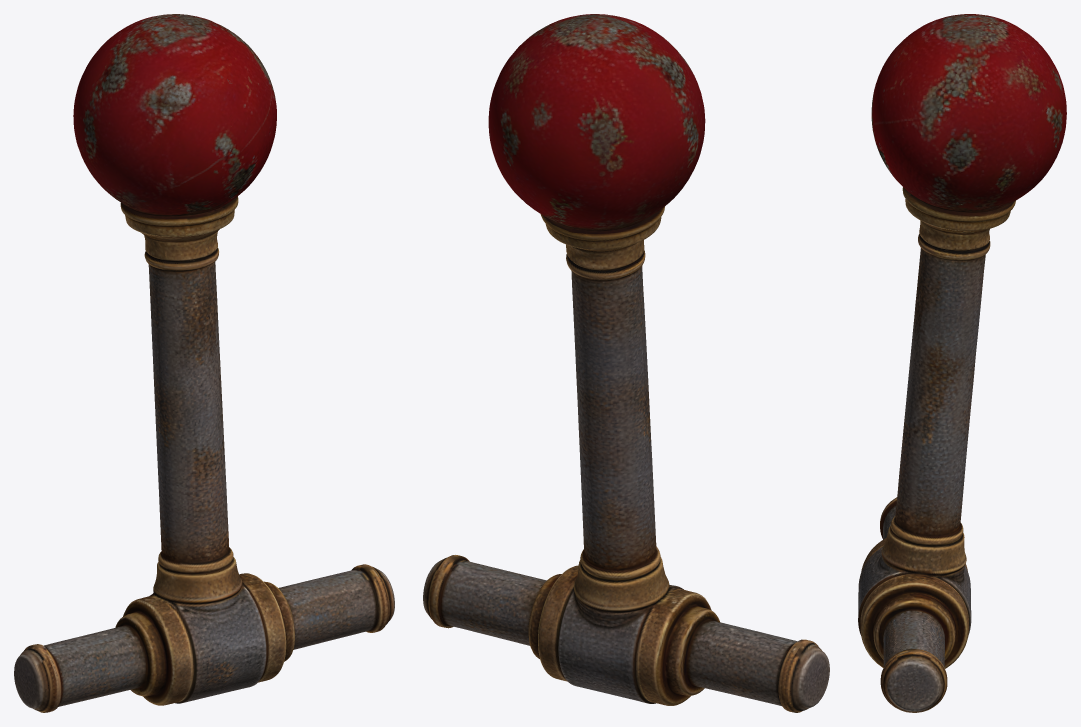
File: lever.glb
The picture shows the model from 3 angles, left to right: view 1: azimuth 30°, elevation 25°; view 2: azimuth 150°, elevation 25°; view 3: azimuth 270°, elevation 25°; orthographic projection. The views are drawn at different scales.
Visible parts, largest first — view 1: Mesh_0; view 2: Mesh_0; view 3: Mesh_0.
Part boxes in pixels (bbox=[...]): Mesh_0: bbox=[14, 14, 394, 712]; Mesh_0: bbox=[423, 14, 829, 712]; Mesh_0: bbox=[858, 14, 1066, 712].
Size of the model in its own units: 0.6377 by 1.1 by 0.3309.
1 material, 1 textured.
